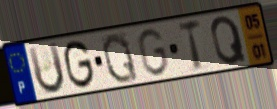G: (135, 26, 171, 78), (63, 38, 97, 91)
Q: (100, 31, 141, 85), (209, 13, 249, 67)
T: (176, 17, 205, 73)
U: (26, 40, 67, 97)
